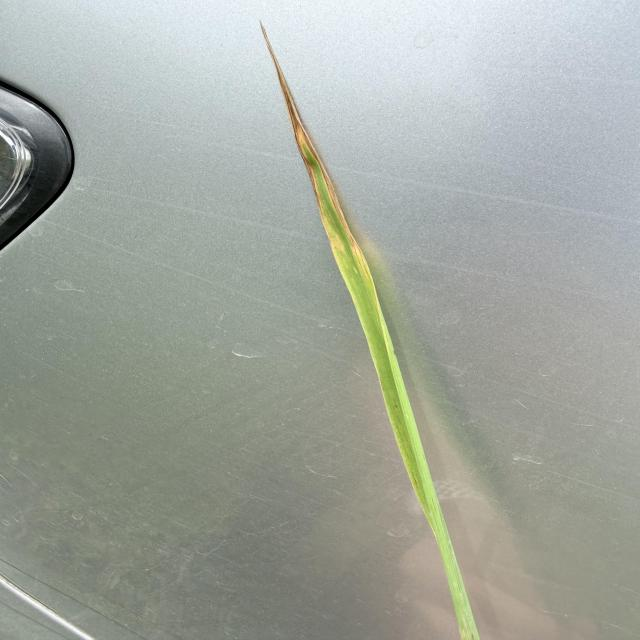Chay bia la: (259, 20, 362, 264)
